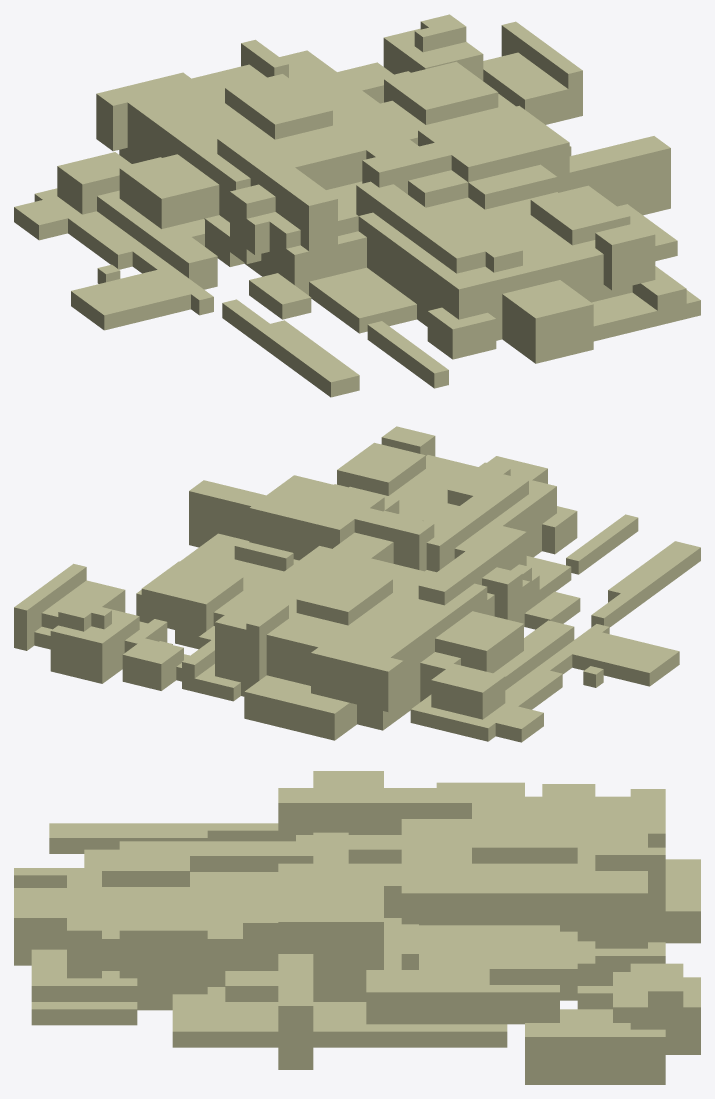
Rendered from Small Dune.obj.
The picture shows the model from 3 angles, top to bottom: view 1: azimuth 30°, elevation 25°; view 2: azimuth 150°, elevation 25°; view 3: azimuth 270°, elevation 25°; orthographic projection. The views are drawn at different scales.
Visible parts, largest first — view 1: Small Dune; view 2: Small Dune; view 3: Small Dune.
Part boxes in pixels (x1,y1,x2,y2): Small Dune: [14, 14, 700, 397]; Small Dune: [14, 426, 700, 742]; Small Dune: [14, 771, 700, 1084].
Bounding box in the file's own units: 40 × 6 × 39.
1 material, 1 textured.
